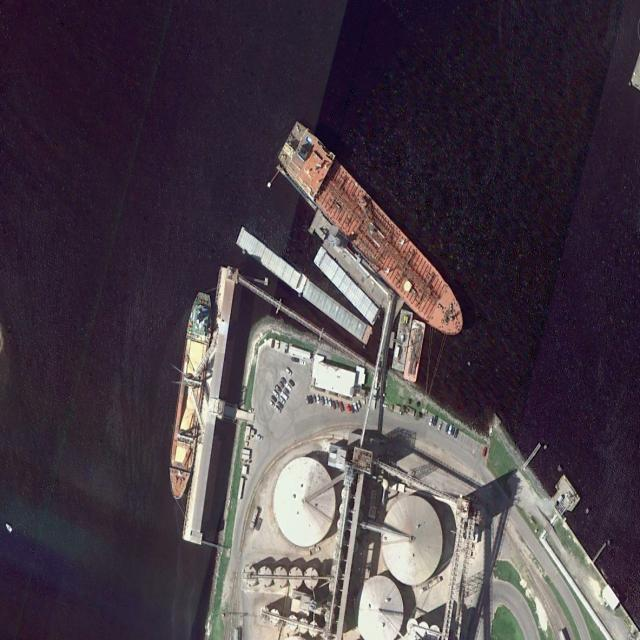Cargo: (275, 118, 474, 349)
Other Ship: (162, 288, 215, 503)
